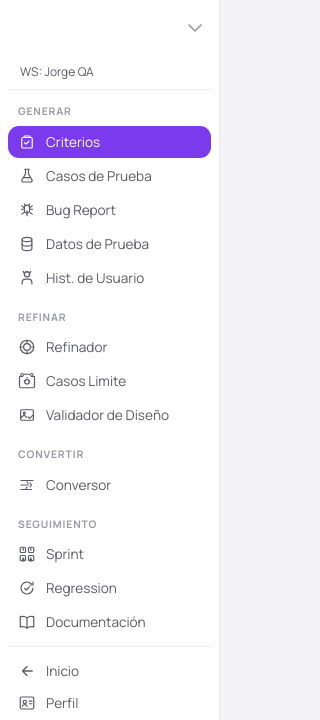
Test case: Sidebar — workspace label › hides the workspace label when collapsed
The width and height of the screenshot is (320, 720).
Click the button named "colapsar" at (195, 30), box [179,12,211,47]
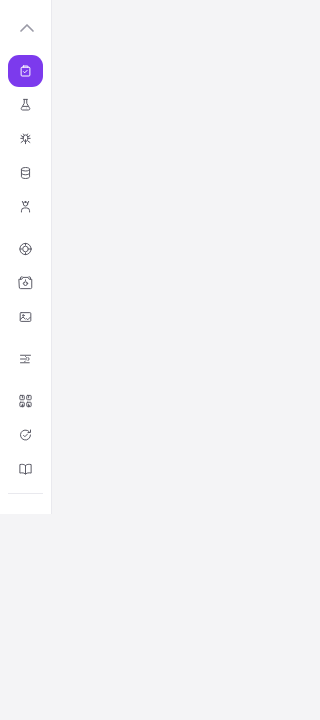
Result: the text "WS:" is gone
